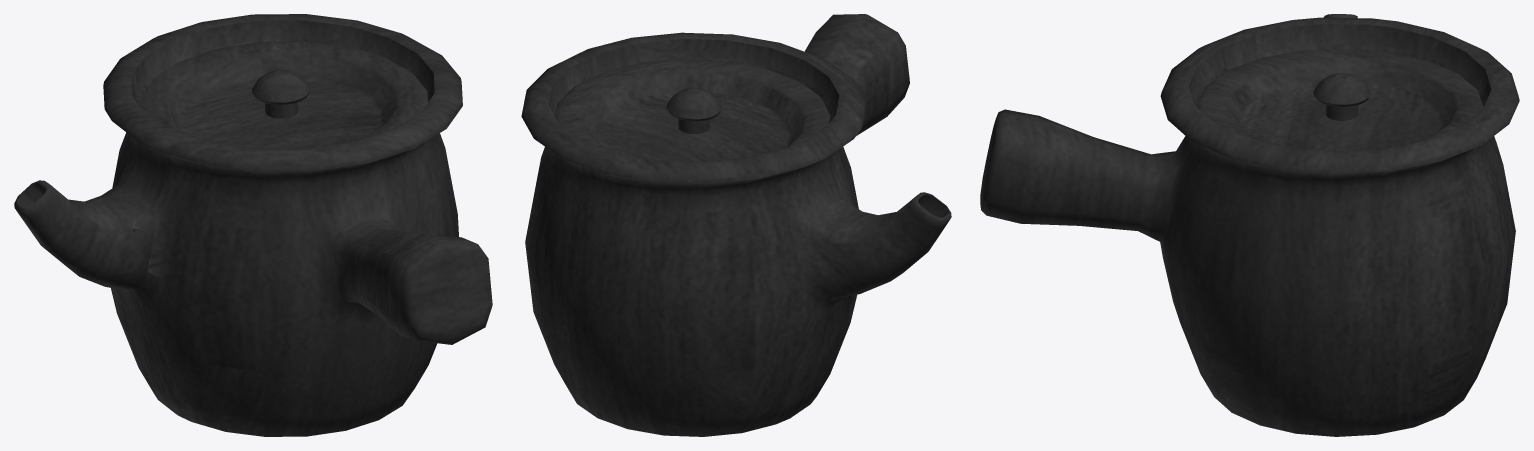
The model's file is shaguo.fbx.
3 renders of one model, left to right at view 1: azimuth 30°, elevation 25°; view 2: azimuth 150°, elevation 25°; view 3: azimuth 270°, elevation 25°, orthographic. The views are drawn at different scales.
Visible parts, largest first — view 1: shaguo_gai, shaguo; view 2: shaguo_gai, shaguo; view 3: shaguo_gai, shaguo.
Boxes of the visible parts, left/top/right/bottom form: shaguo_gai: left=14, top=14, right=492, bottom=436; shaguo: left=141, top=41, right=427, bottom=148; shaguo_gai: left=521, top=14, right=951, bottom=436; shaguo: left=555, top=59, right=830, bottom=161; shaguo_gai: left=980, top=14, right=1519, bottom=436; shaguo: left=1197, top=49, right=1483, bottom=151.
Bounding box in the file's own units: 45.42 × 31.95 × 50.65.
